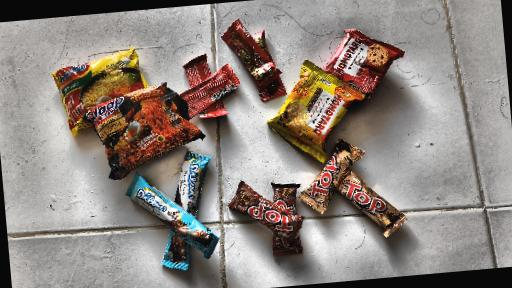chocho: (217, 13, 289, 102), (183, 56, 244, 123)
dilan: (122, 146, 221, 277)
indomie: (51, 47, 146, 139)
mie sedap: (71, 75, 214, 183)
momotaro: (263, 54, 366, 168), (314, 25, 409, 97)
top: (217, 169, 306, 248), (290, 133, 369, 215), (337, 159, 409, 240), (264, 178, 304, 257)
